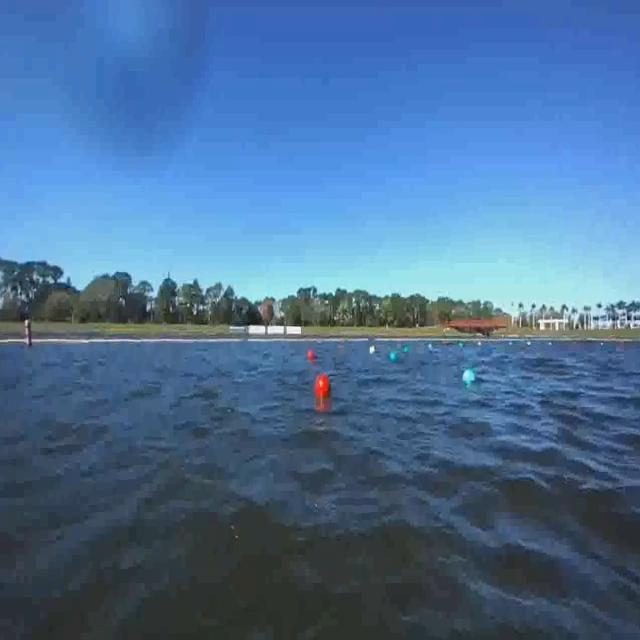green-buoy: (464, 365, 478, 386), (386, 352, 394, 362)
red-buoy: (314, 374, 330, 398)
red-column-buoy: (306, 349, 312, 362)
yellow-buoy: (369, 341, 376, 355)
